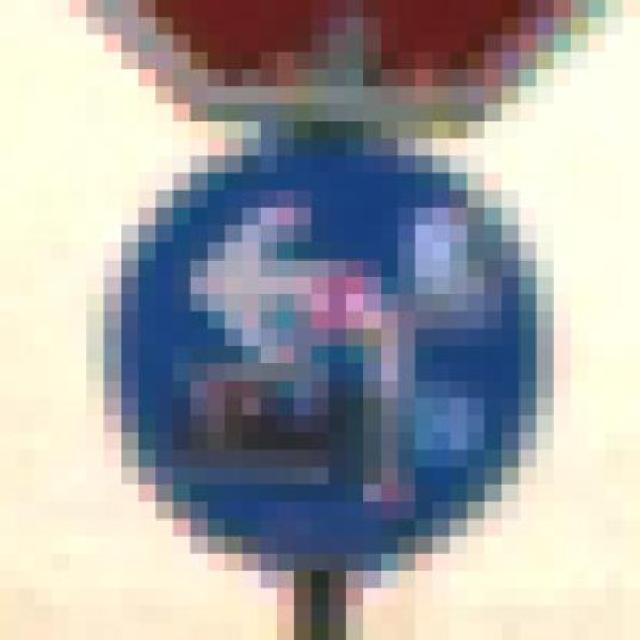Turn left ahead: (69, 104, 588, 588)
